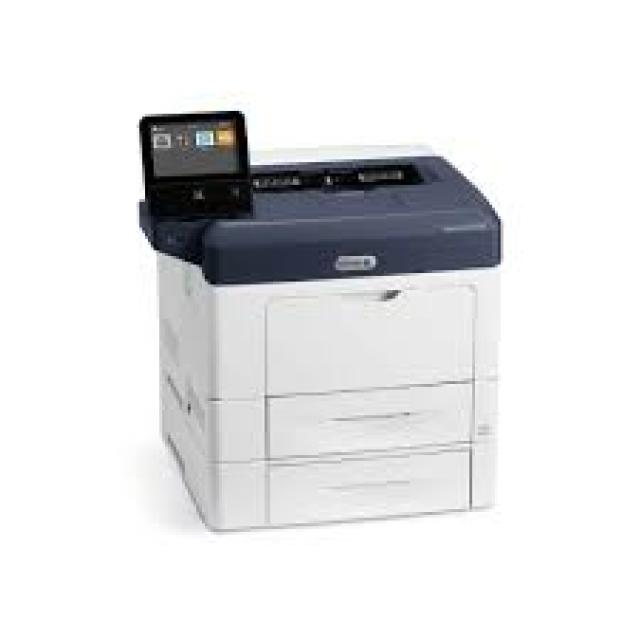printer: (98, 82, 545, 576)
